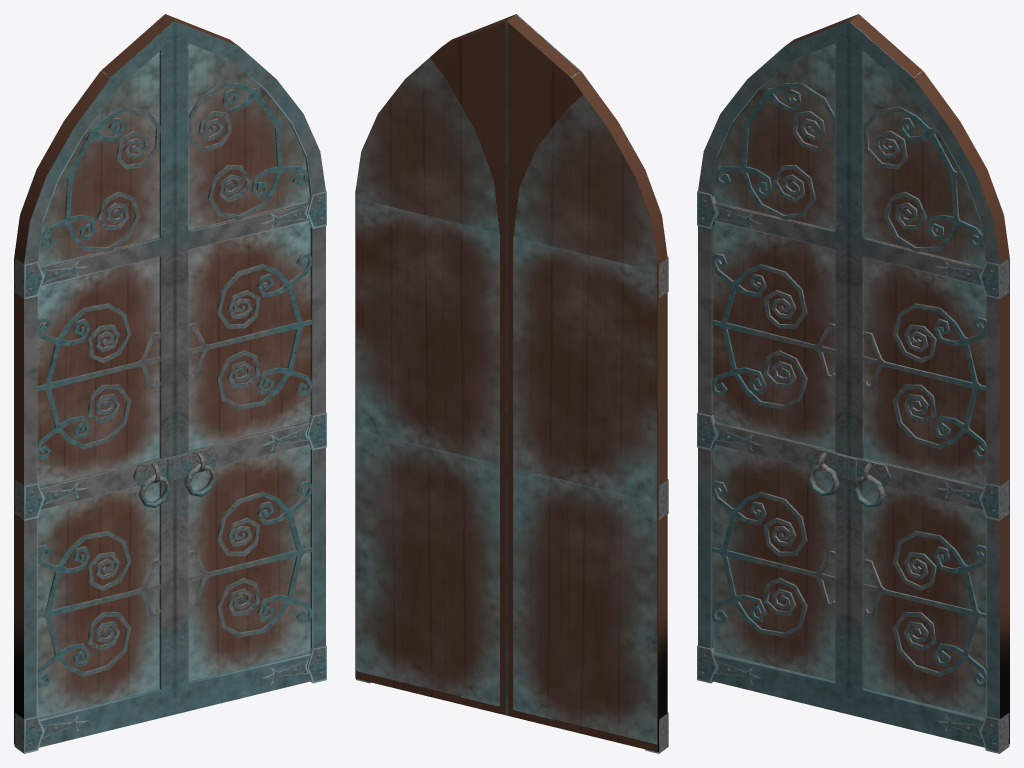
The model's file is portas.fbx.
3 views of the same model, side by side, from view 1: azimuth 30°, elevation 25°; view 2: azimuth 150°, elevation 25°; view 3: azimuth 330°, elevation 25° (orthographic).
Parts seen in each view (by area): view 1: porta 1, porta 2; view 2: porta 1, porta 2; view 3: porta 2, porta 1.
Part boxes in pixels (box(x1,y1,x2,y2)): porta 1: box(14, 14, 177, 753); porta 2: box(165, 14, 326, 714); porta 1: box(506, 14, 668, 753); porta 2: box(355, 14, 515, 715); porta 2: box(846, 14, 1009, 753); porta 1: box(697, 14, 858, 714).
Bounding box in the file's own units: 222 × 489 × 20.66.
1 material, 1 textured.
